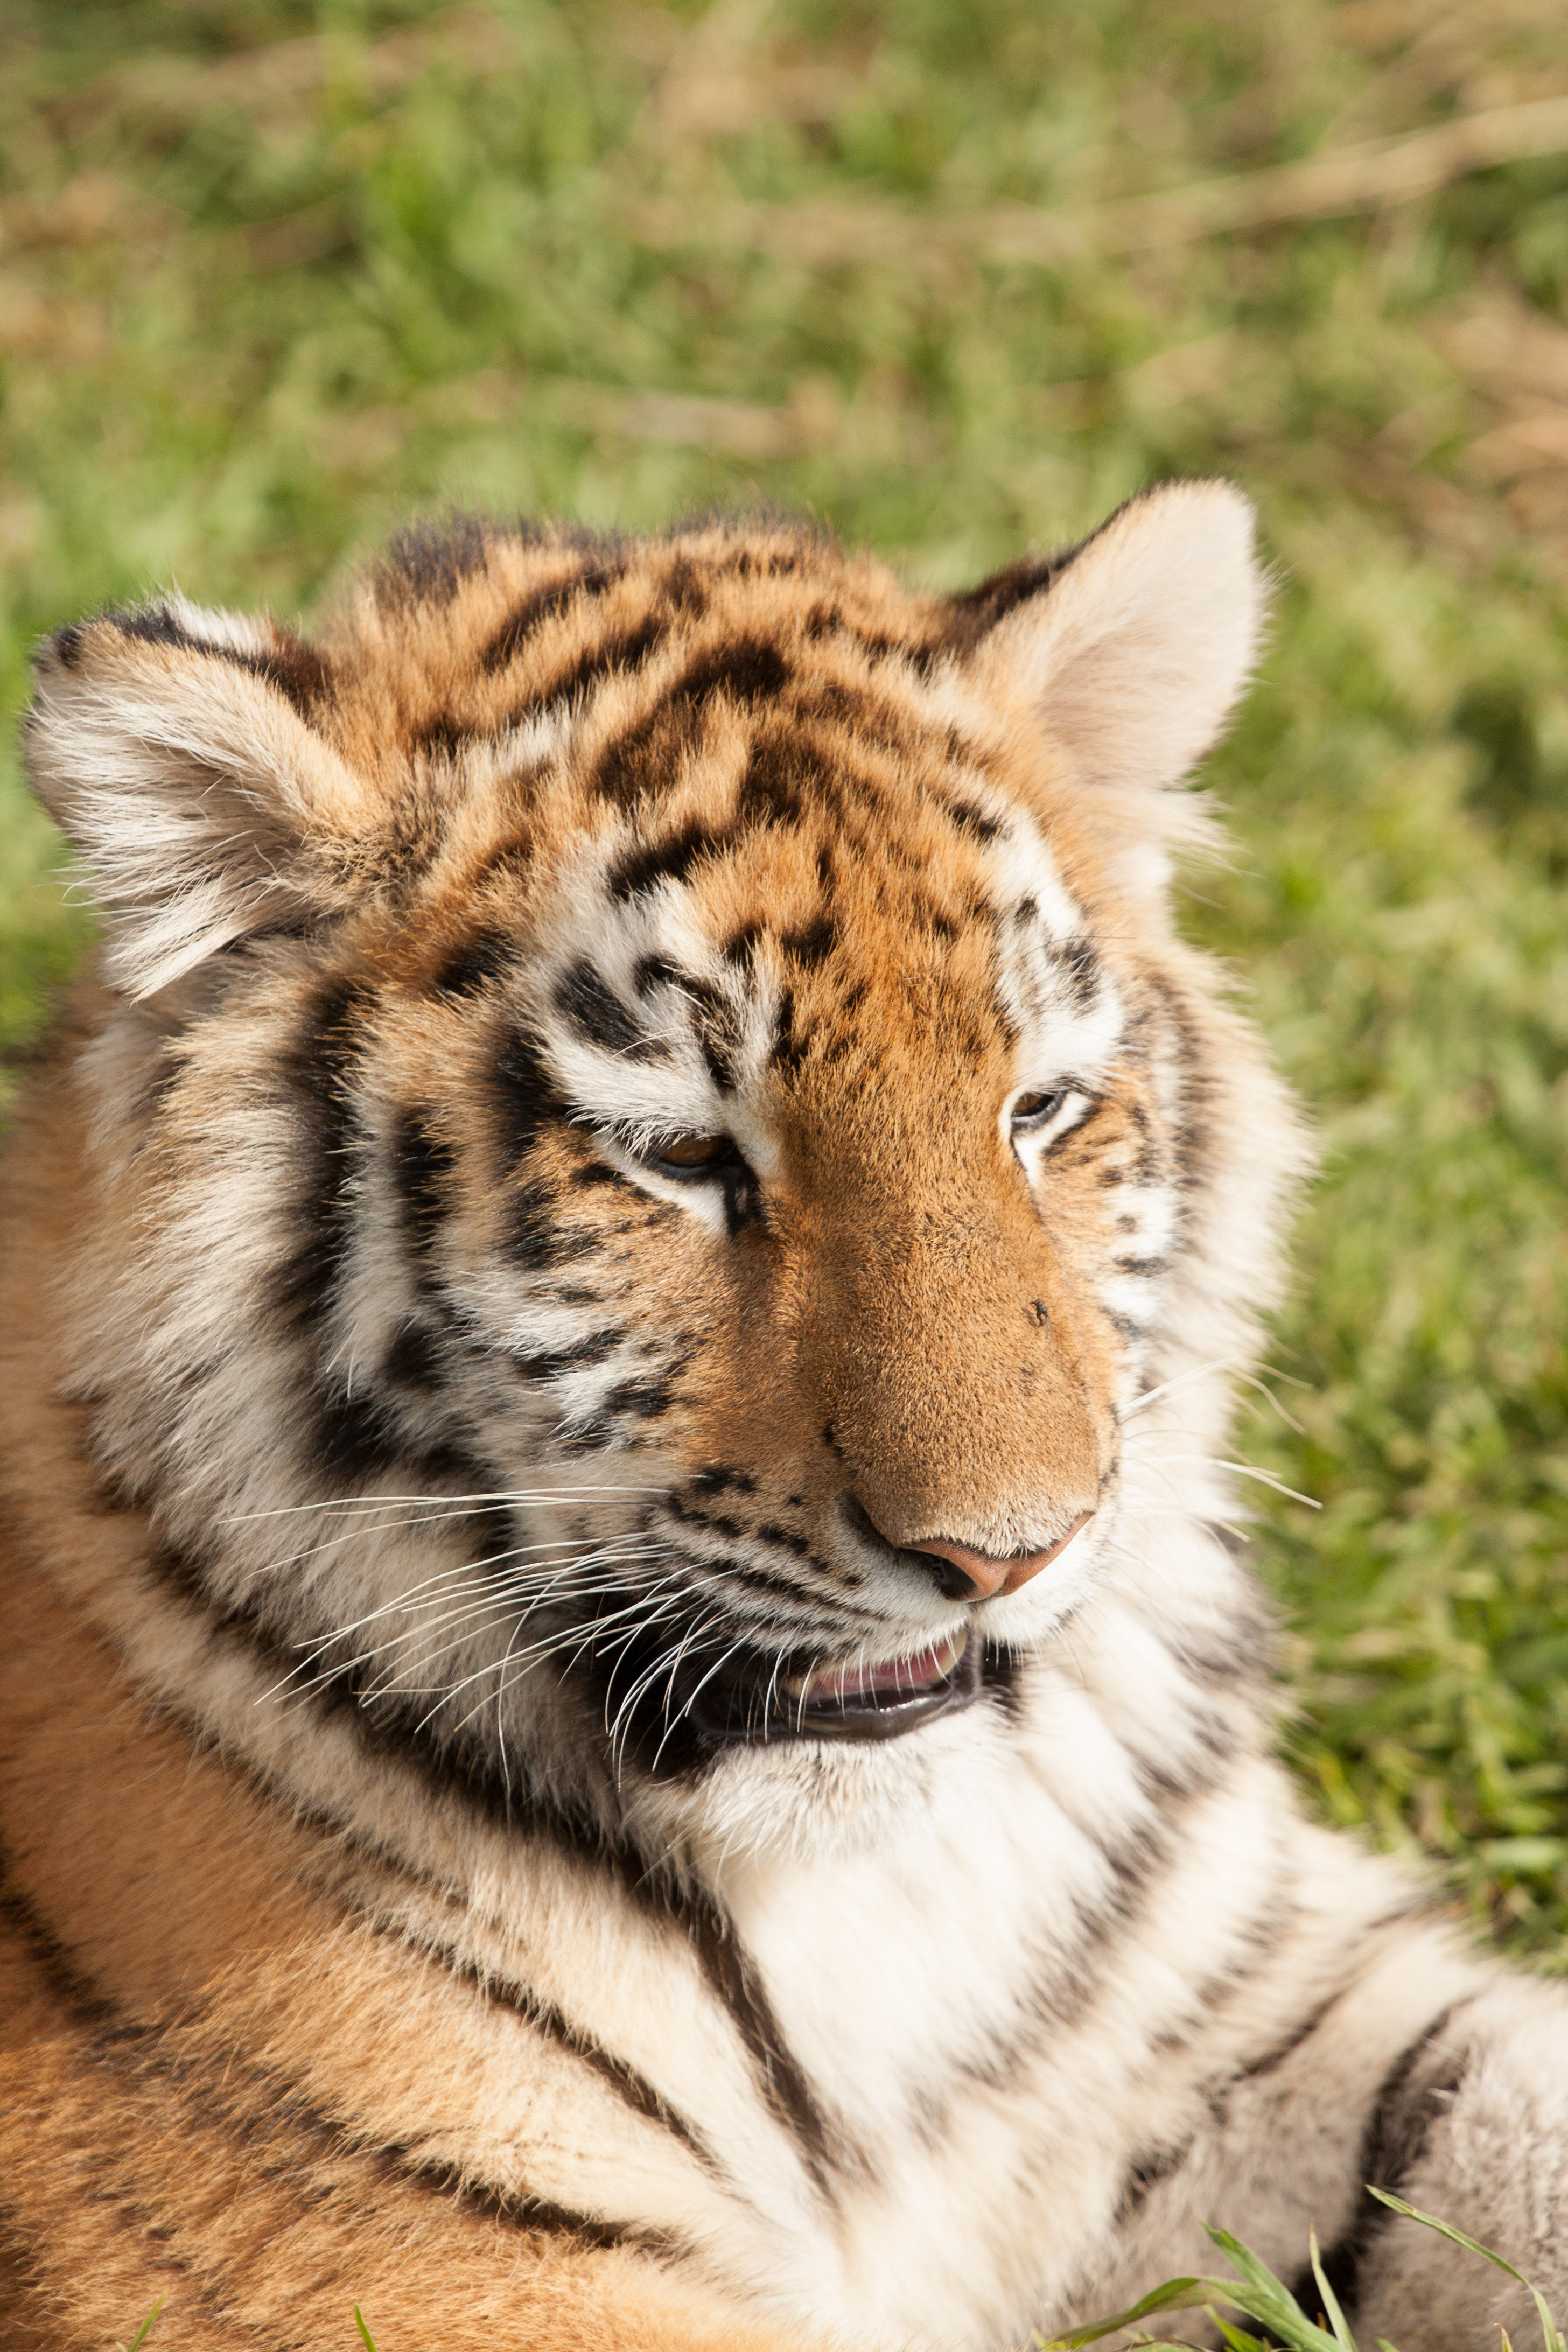tiger: (52, 511, 1566, 2348)
